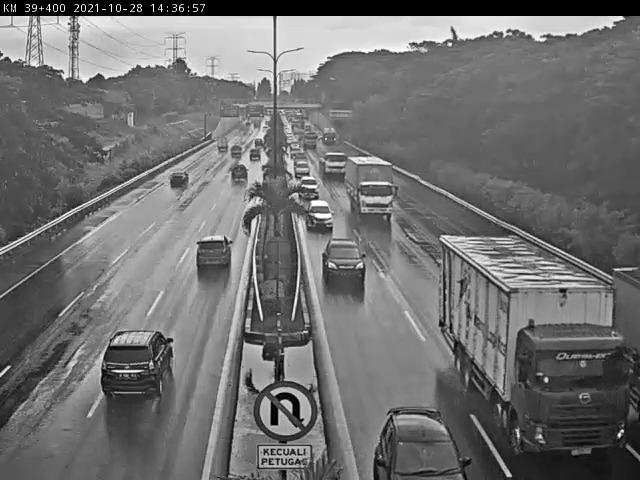big truck: (523, 321, 636, 466), (348, 154, 388, 222), (320, 150, 342, 170)
car: (382, 381, 462, 471), (94, 328, 182, 393), (184, 227, 234, 287), (333, 238, 365, 292), (311, 188, 330, 227), (166, 171, 190, 193), (227, 172, 247, 193), (300, 174, 315, 187)
